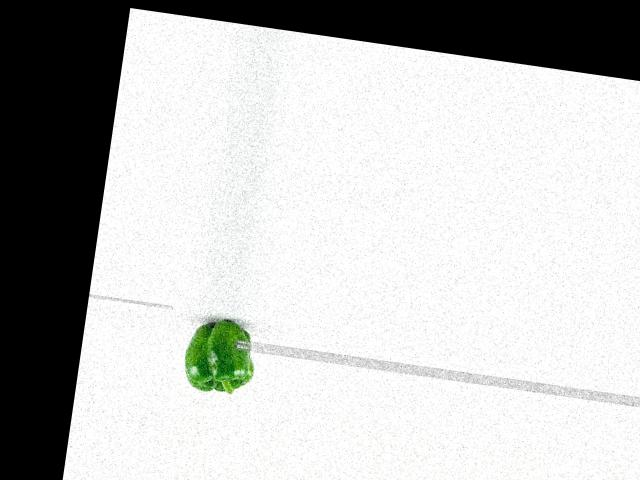bell_pepper: (177, 311, 259, 401)
